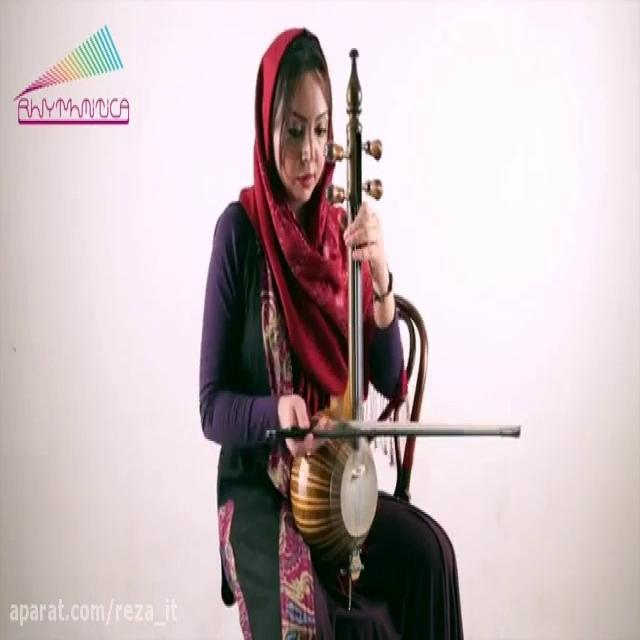Kamanche: (284, 51, 392, 594)
